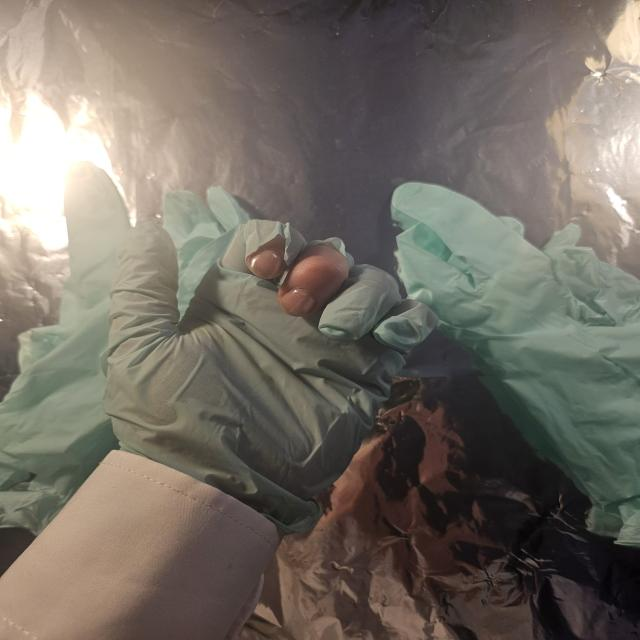gloves_damaged: (100, 219, 443, 535)
